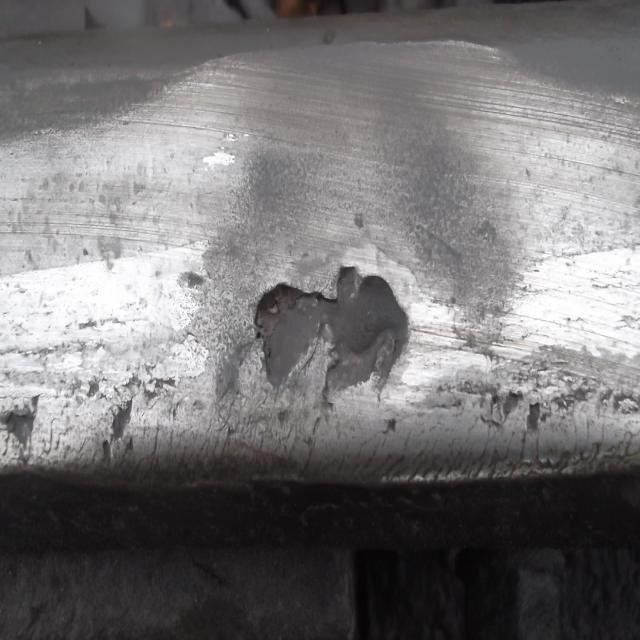broken_rail_medium: (254, 262, 411, 410), (114, 362, 180, 402), (3, 393, 41, 445), (102, 436, 136, 472), (110, 396, 133, 438), (502, 387, 524, 427), (183, 269, 207, 294), (527, 402, 541, 432), (85, 380, 103, 400), (354, 208, 367, 232)
